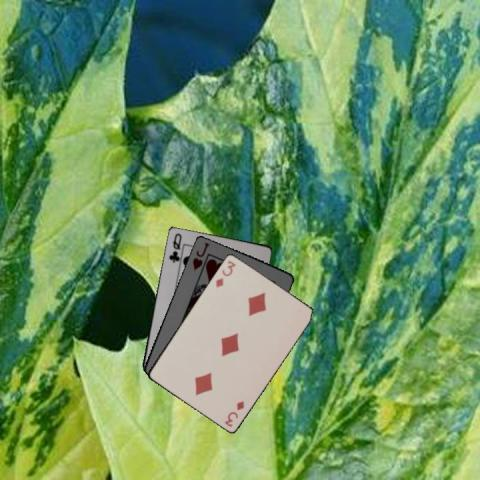3d: (212, 257, 236, 289), (222, 397, 245, 428)
Jh: (189, 240, 211, 272)
Qc: (166, 230, 183, 264)
